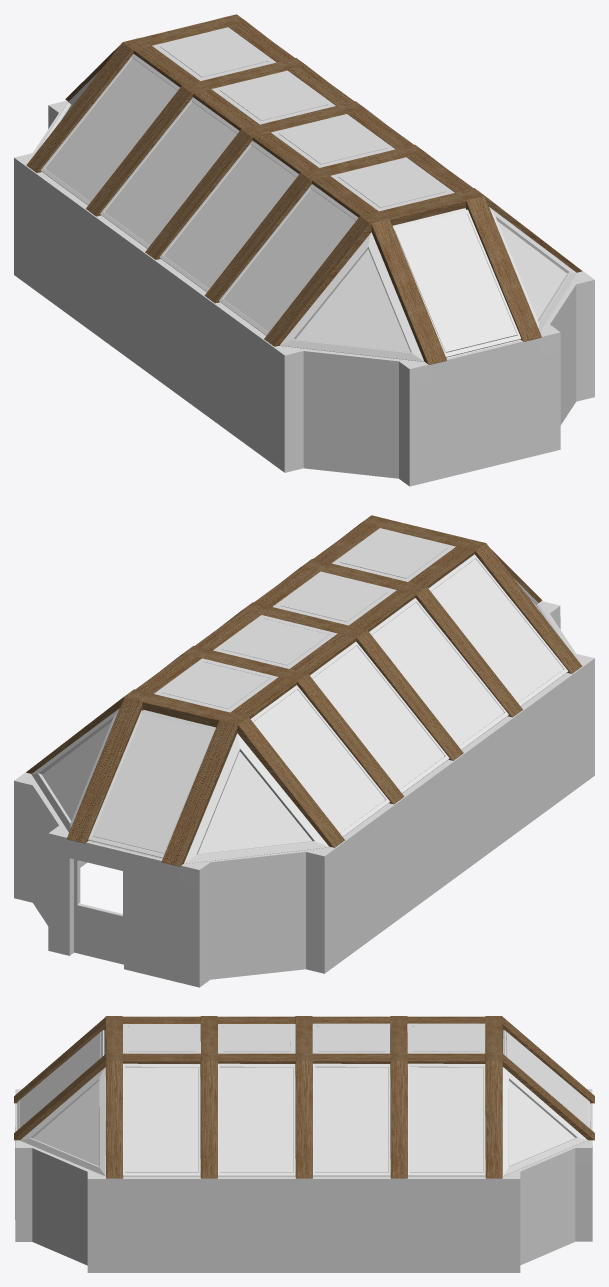
File: room_with_windows_extra_small.fbx
3 views of the same model, one above another, from view 1: azimuth 30°, elevation 25°; view 2: azimuth 150°, elevation 25°; view 3: azimuth 270°, elevation 25° (orthographic). The views are drawn at different scales.
Visible parts, largest first — view 1: walls, glas.001, roof_structure2, roof_structure1, glas, glas.002, Cube.040, window.004, windowframe2, Cube.041, Cube.037, Cube.036 (+1 smaller); view 2: walls, glas.001, roof_structure2, roof_structure1, glas, glas.002, Cube.038, window.004, windowframe2, Cube.039, walls.001, Cube.023 (+2 smaller); view 3: walls, glas.001, roof_structure2, roof_structure1, glas, window.004, glas.002, windowframe2, Cube.037, Cube.023, Cube.010, Cube.036 (+1 smaller).
Part boxes in pixels (x1=…): walls: x1=14, y1=100, x2=594, y2=486; glas.001: x1=45, y1=58, x2=355, y2=331; roof_structure2: x1=26, y1=14, x2=581, y2=346; roof_structure1: x1=65, y1=16, x2=541, y2=364; glas: x1=160, y1=30, x2=446, y2=207; glas.002: x1=395, y1=213, x2=516, y2=352; Cube.040: x1=296, y1=249, x2=410, y2=351; window.004: x1=40, y1=54, x2=358, y2=335; windowframe2: x1=152, y1=27, x2=454, y2=211; Cube.041: x1=279, y1=232, x2=424, y2=361; Cube.037: x1=497, y1=221, x2=566, y2=319; Cube.036: x1=489, y1=207, x2=576, y2=331; walls: x1=14, y1=601, x2=594, y2=987; glas.001: x1=253, y1=559, x2=563, y2=832; roof_structure2: x1=26, y1=515, x2=582, y2=847; roof_structure1: x1=67, y1=523, x2=542, y2=866; glas: x1=162, y1=531, x2=447, y2=708; glas.002: x1=92, y1=714, x2=214, y2=853; Cube.038: x1=198, y1=751, x2=311, y2=854; window.004: x1=250, y1=554, x2=568, y2=836; windowframe2: x1=154, y1=528, x2=455, y2=712; Cube.039: x1=184, y1=733, x2=329, y2=863; walls.001: x1=74, y1=859, x2=123, y2=964; Cube.023: x1=42, y1=722, x2=111, y2=820; walls: x1=15, y1=1076, x2=592, y2=1272; glas.001: x1=125, y1=1067, x2=483, y2=1172; roof_structure2: x1=105, y1=1016, x2=502, y2=1178; roof_structure1: x1=14, y1=1016, x2=594, y2=1140; glas: x1=128, y1=1025, x2=480, y2=1051; window.004: x1=123, y1=1063, x2=485, y2=1176; glas.002: x1=20, y1=1032, x2=587, y2=1127; windowframe2: x1=123, y1=1023, x2=485, y2=1053; Cube.037: x1=33, y1=1081, x2=99, y2=1165; Cube.023: x1=509, y1=1081, x2=574, y2=1165; Cube.010: x1=502, y1=1067, x2=587, y2=1176; Cube.036: x1=20, y1=1067, x2=105, y2=1176.
Size of the model in its own units: 665 by 444 by 1347.
